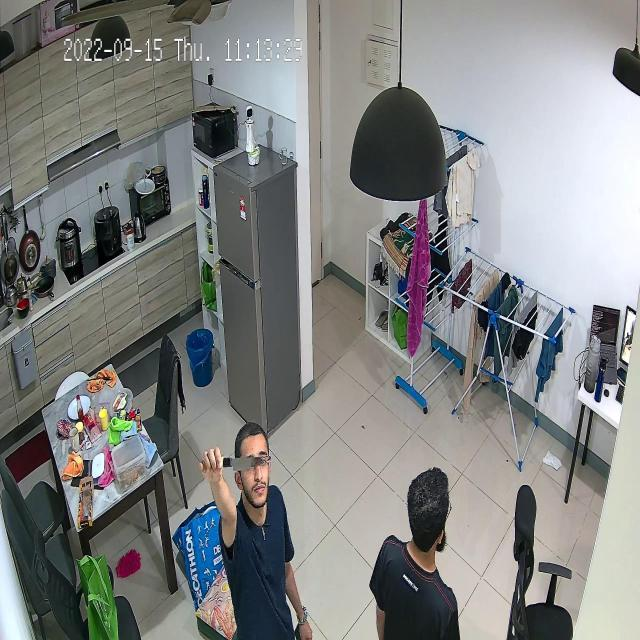Knife: (200, 446, 272, 476)
